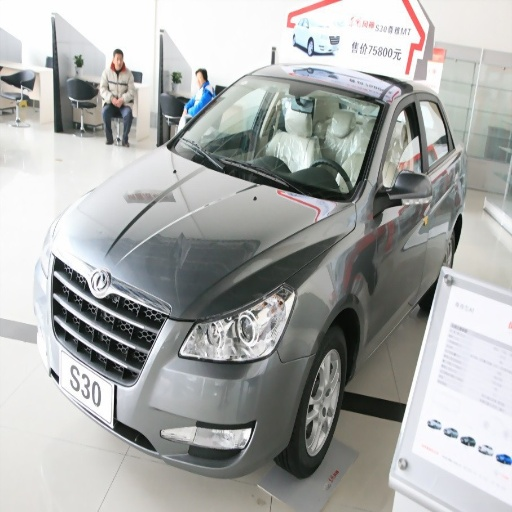front_bumper: (86, 316, 310, 477)
front_glass: (168, 75, 385, 201)
front_left_door: (368, 96, 431, 336)
